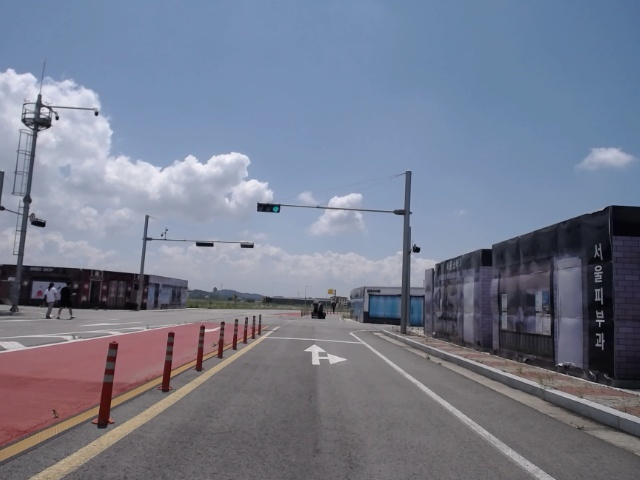green_3: (259, 203, 280, 212)
